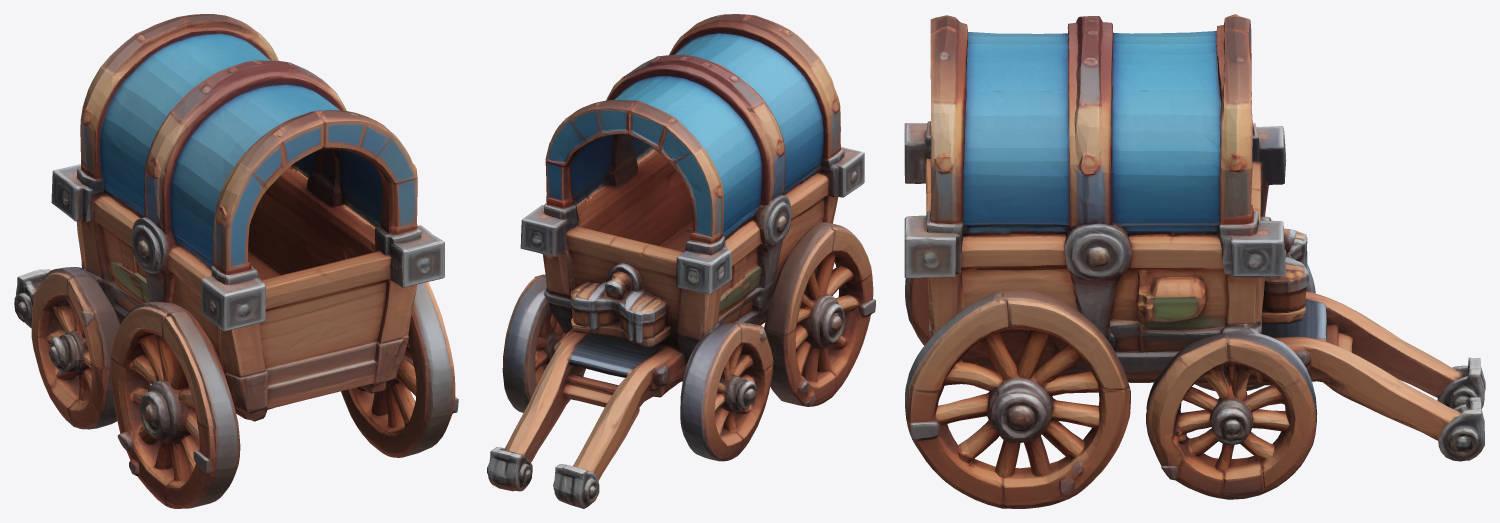
The model's file is typical_vehicle_cart-2.glb.
3 renders of one model, left to right at view 1: azimuth 30°, elevation 25°; view 2: azimuth 150°, elevation 25°; view 3: azimuth 270°, elevation 25°, orthographic. The views are drawn at different scales.
Visible parts, largest first — view 1: world; view 2: world; view 3: world.
Part boxes in pixels (bbox=[...]): world: bbox=[14, 14, 458, 508]; world: bbox=[487, 14, 875, 508]; world: bbox=[904, 14, 1485, 508].
Size of the model in its own units: 0.5885 by 0.8 by 1.
1 material, 1 textured.
